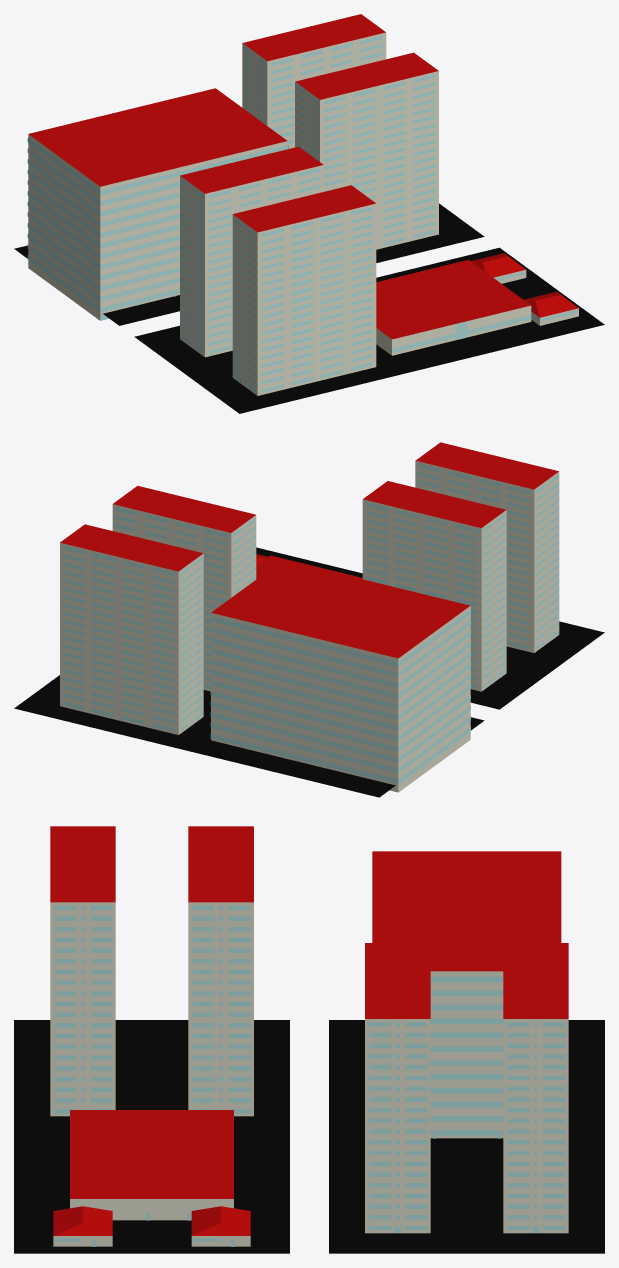
3 renders of one model, top to bottom at view 1: azimuth 30°, elevation 25°; view 2: azimuth 150°, elevation 25°; view 3: azimuth 270°, elevation 25°, orthographic. The views are drawn at different scales.
Parts seen in each view (by area): view 1: Walls, Roofs, Windows, Ground; view 2: Walls, Windows, Roofs, Ground; view 3: Ground, Roofs, Walls, Windows.
Part boxes in pixels (x1,y1,x2,y2): Walls: [28, 32, 578, 395]; Roofs: [28, 14, 578, 339]; Windows: [27, 36, 577, 392]; Ground: [14, 203, 604, 413]; Walls: [60, 460, 559, 792]; Windows: [62, 464, 558, 783]; Roofs: [60, 442, 558, 658]; Ground: [14, 547, 604, 797]; Ground: [14, 1020, 604, 1253]; Roofs: [50, 826, 568, 1235]; Walls: [50, 902, 568, 1246]; Windows: [54, 905, 565, 1246].
Bounding box in the file's own units: 144 × 63.4 × 152.
